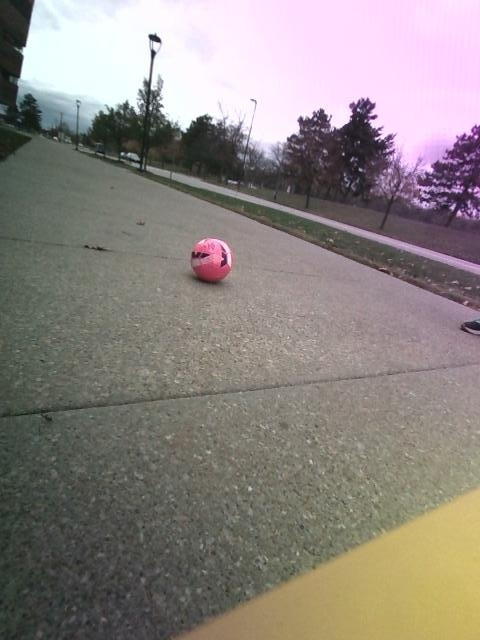ball: (191, 238, 231, 281)
